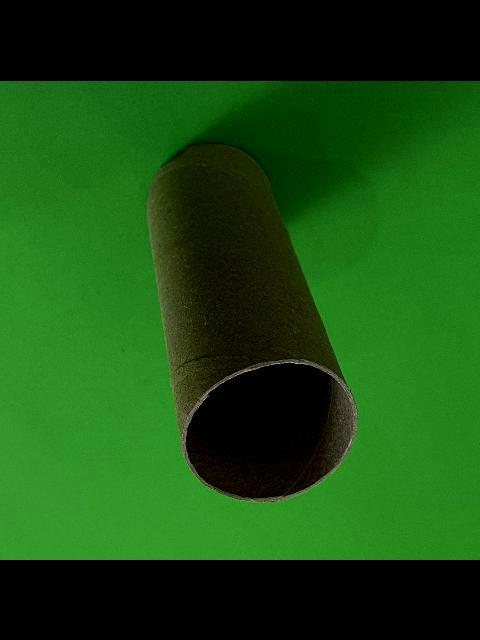tissueroll: (145, 141, 359, 503)
